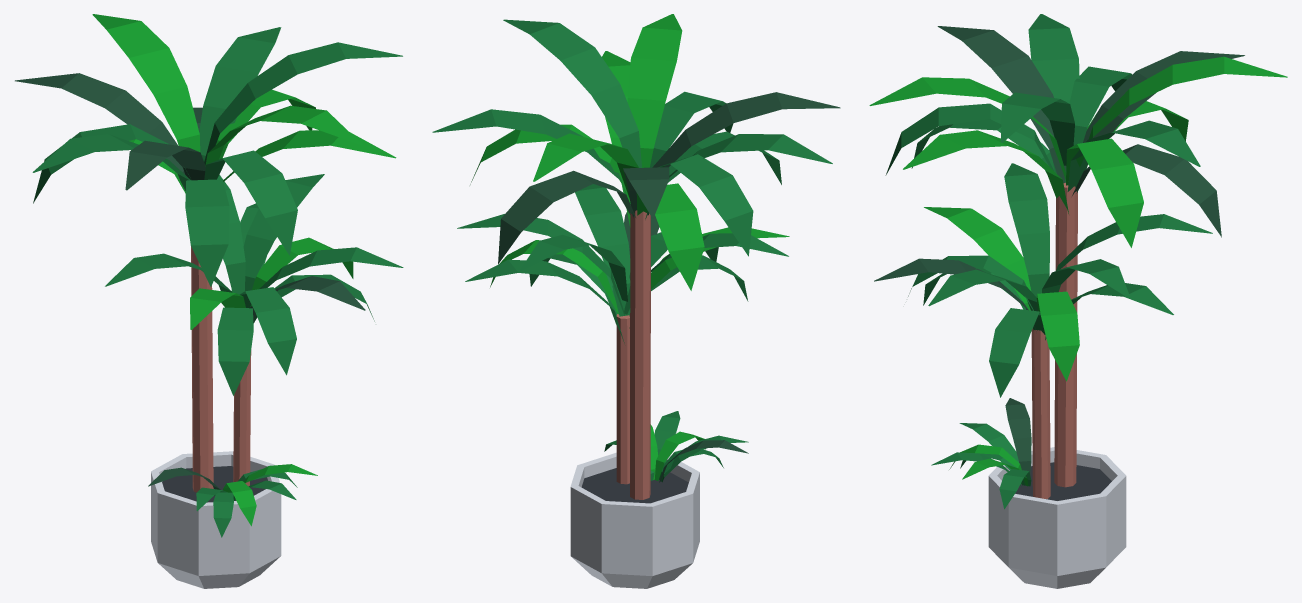
The model's file is Plant02.fbx.
3 renders of one model, left to right at view 1: azimuth 30°, elevation 25°; view 2: azimuth 150°, elevation 25°; view 3: azimuth 270°, elevation 25°, orthographic. The views are drawn at different scales.
Parts seen in each view (by area): view 1: Cylinder; view 2: Cylinder; view 3: Cylinder.
Part boxes in pixels (<box>): Cylinder: <box>15,14,403,588</box>; Cylinder: <box>432,14,840,588</box>; Cylinder: <box>869,14,1287,588</box>.
Size of the model in its own units: 120 by 166 by 121.
